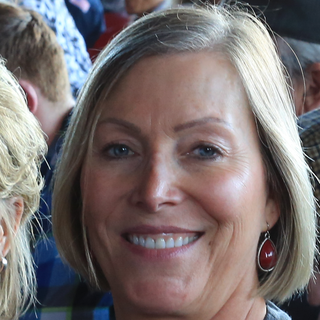eye: (178, 138, 230, 169), (93, 139, 145, 166)
